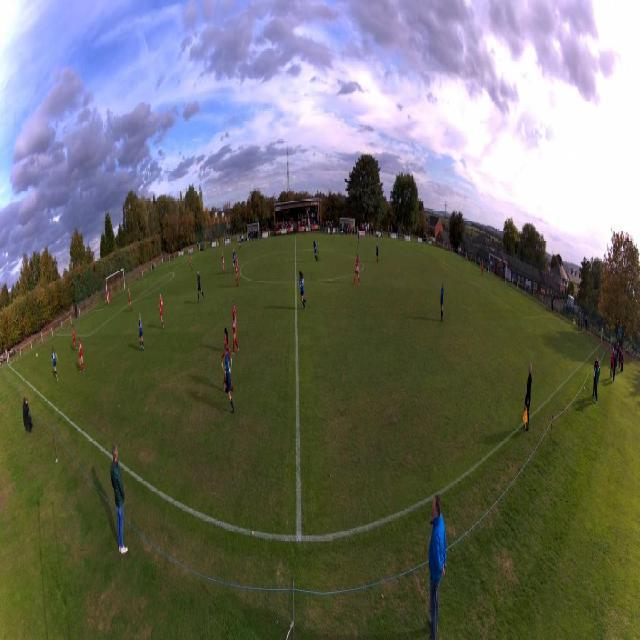ball: (36, 353, 38, 358)
player: (221, 344, 235, 415), (221, 328, 233, 392), (231, 299, 240, 357), (298, 270, 307, 310), (51, 346, 59, 381), (197, 270, 205, 304), (138, 313, 145, 351), (352, 254, 360, 286), (158, 293, 164, 330), (79, 337, 85, 373), (440, 281, 444, 321), (312, 238, 318, 262), (72, 324, 77, 351), (127, 287, 132, 312), (235, 255, 239, 286), (222, 252, 226, 276), (232, 247, 235, 275), (376, 242, 379, 266), (190, 253, 193, 271), (480, 260, 483, 278), (107, 289, 110, 306), (238, 234, 241, 251), (358, 231, 360, 247)
